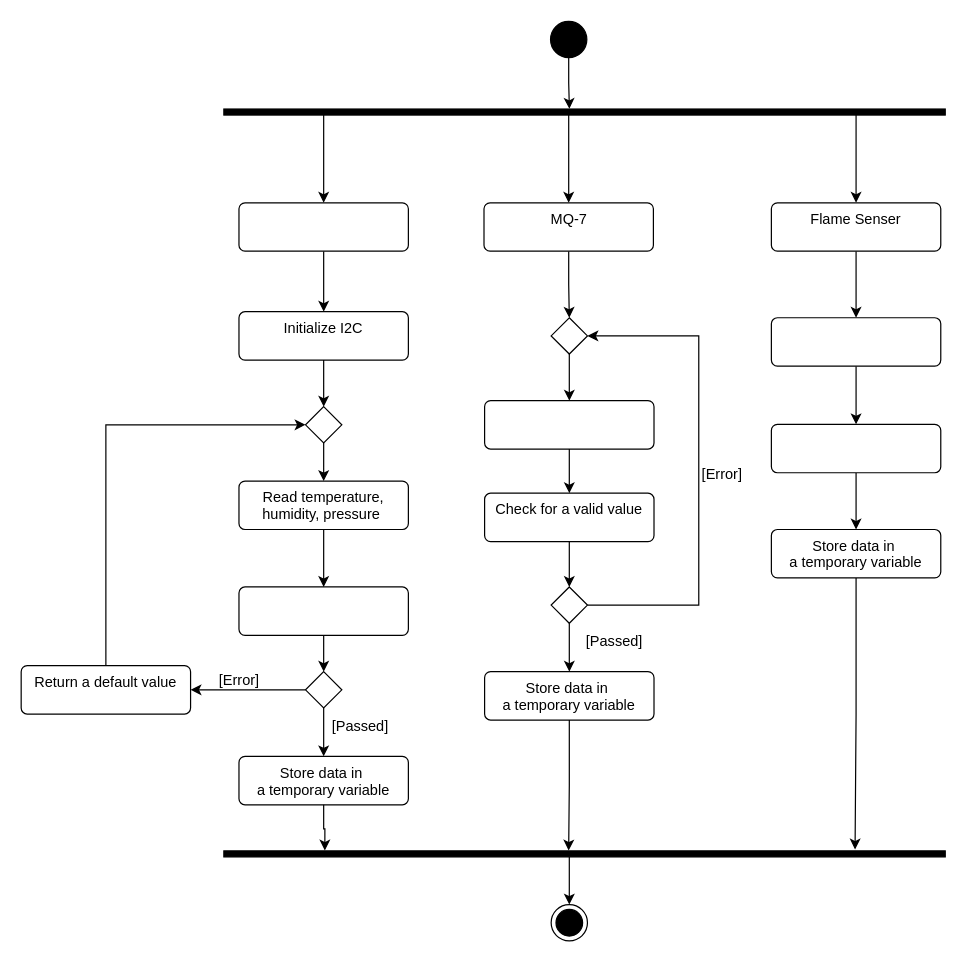
Some shapes in this 967 by 962 pixel diagram are drawn without their labels. Here are the shapes that lost their labels. From the top down, the centre of each, then its label:
the point at 323,226: BME-280
the point at 855,341: Read digital signal
the point at 568,424: Read analog value
the point at 855,448: Determine the state
the point at 323,610: Check for errors
